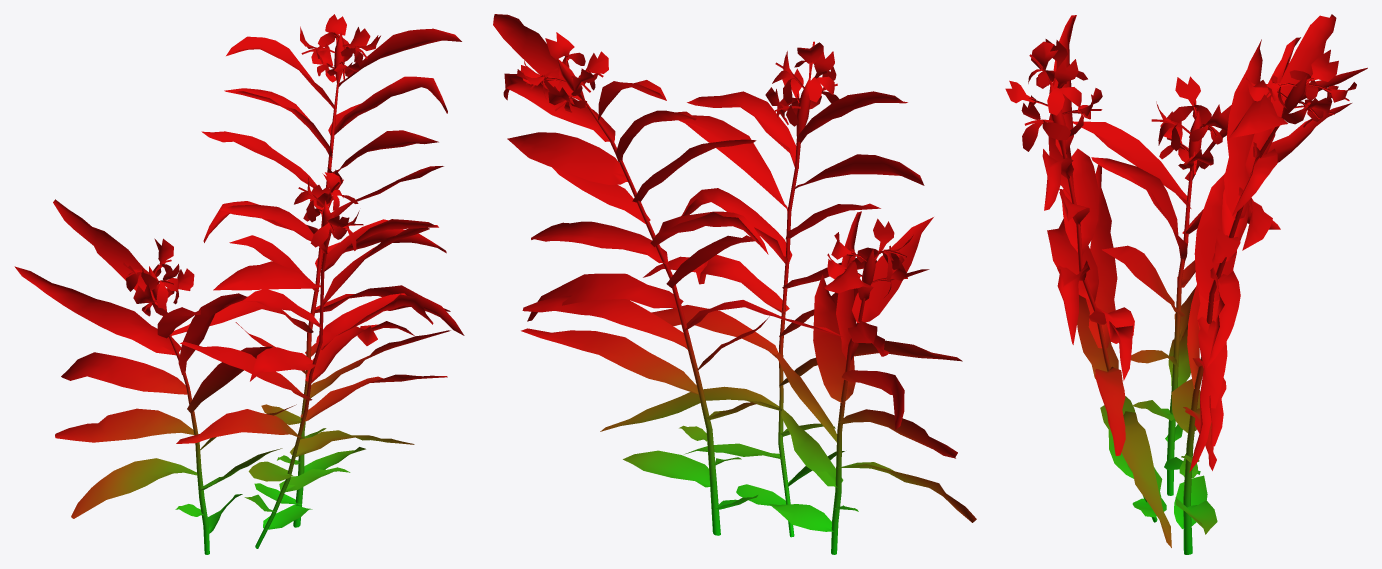
File: Var4_LOD0.fbx
3 renders of one model, left to right at view 1: azimuth 30°, elevation 25°; view 2: azimuth 150°, elevation 25°; view 3: azimuth 270°, elevation 25°, orthographic. The views are drawn at different scales.
Visible parts, largest first — view 1: _20b9_Var4_LOD0; view 2: _20b9_Var4_LOD0; view 3: _20b9_Var4_LOD0.
Part boxes in pixels (x1,y1,x2,y2): _20b9_Var4_LOD0: (14,14,464,554); _20b9_Var4_LOD0: (493,14,976,554); _20b9_Var4_LOD0: (1005,14,1367,554).
Bounding box in the file's own units: 104 × 107 × 64.91.
